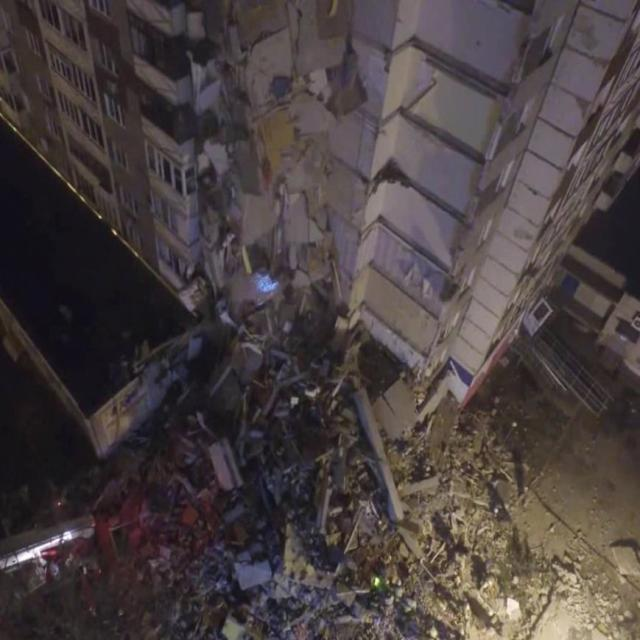collapsed_building: (140, 28, 508, 632)
